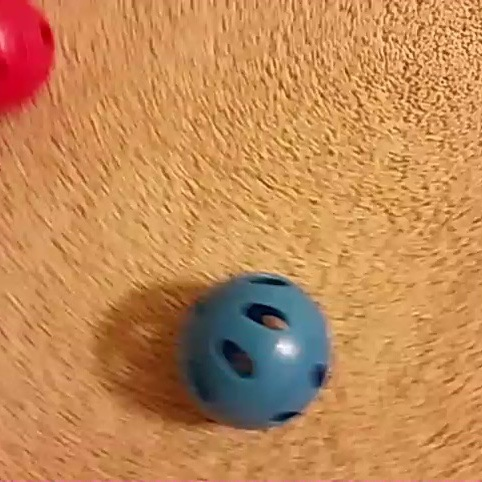blueball: (172, 267, 339, 433)
redball: (1, 1, 60, 125)
